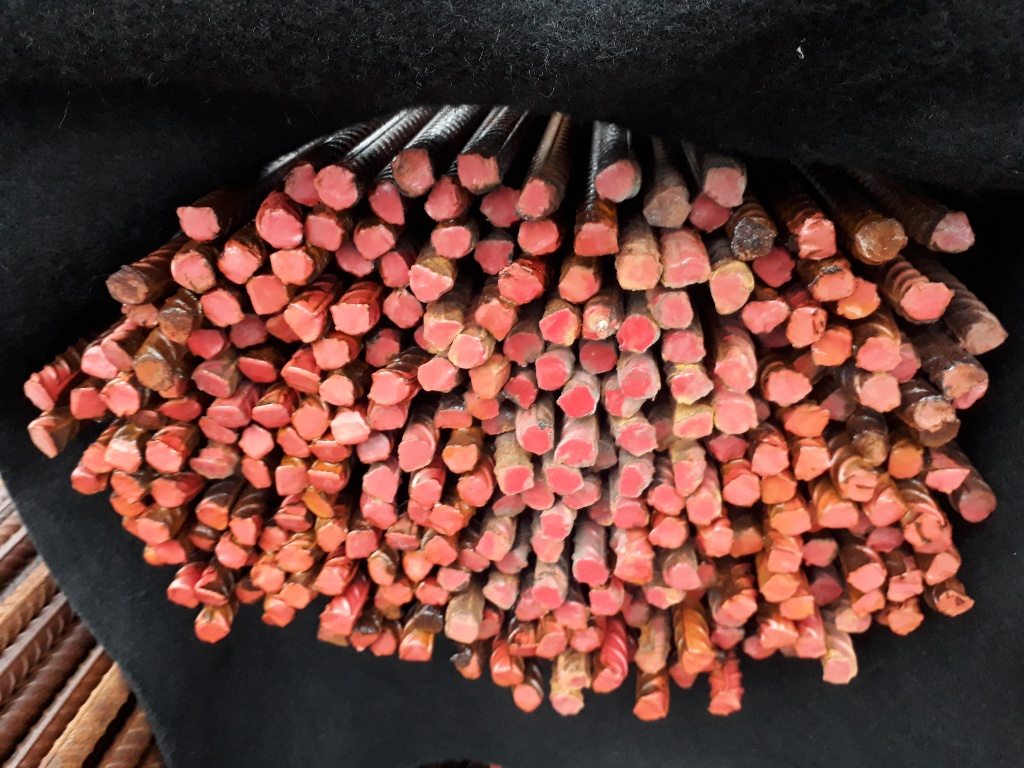dipstick: (902, 396, 963, 448), (853, 218, 908, 263), (159, 287, 202, 343), (389, 147, 437, 197), (938, 362, 989, 409), (899, 281, 956, 322), (837, 274, 882, 323), (870, 343, 923, 384), (711, 267, 755, 316), (662, 247, 713, 289), (422, 175, 465, 224), (854, 371, 903, 414), (711, 392, 761, 434), (643, 187, 690, 231), (730, 217, 775, 262), (314, 165, 359, 210), (596, 160, 641, 204), (478, 185, 522, 230), (794, 218, 840, 261), (806, 265, 858, 303), (497, 263, 545, 304), (255, 210, 303, 250), (474, 297, 517, 341), (930, 212, 975, 254), (601, 377, 647, 418), (285, 162, 325, 209), (764, 368, 813, 406), (704, 165, 747, 208), (753, 245, 796, 288), (218, 240, 261, 283), (457, 153, 501, 195), (740, 299, 791, 335), (855, 336, 902, 375), (367, 182, 409, 225), (690, 192, 734, 233), (786, 307, 830, 348), (171, 251, 215, 292), (408, 264, 453, 304), (246, 275, 292, 314), (648, 292, 695, 330), (811, 327, 853, 369), (515, 177, 555, 221), (105, 265, 150, 304), (175, 205, 221, 243), (867, 487, 908, 528), (660, 330, 708, 365), (616, 316, 661, 353), (616, 255, 662, 291), (473, 239, 519, 275), (282, 303, 323, 343), (381, 289, 423, 328), (573, 222, 621, 256), (190, 448, 238, 482), (673, 447, 706, 496), (583, 301, 623, 341), (558, 267, 601, 304), (536, 309, 579, 346), (964, 320, 1007, 357), (903, 511, 947, 547), (517, 220, 562, 255), (269, 250, 314, 285), (131, 357, 177, 391), (887, 439, 925, 480), (722, 472, 764, 509), (353, 224, 397, 259), (925, 462, 969, 497), (304, 214, 344, 252), (100, 378, 140, 416), (667, 372, 716, 403), (784, 405, 830, 438), (619, 362, 660, 399), (201, 288, 242, 325), (750, 442, 792, 478), (713, 357, 756, 392), (332, 406, 370, 445), (670, 408, 716, 440), (334, 243, 377, 277), (645, 482, 688, 516), (368, 370, 411, 404), (792, 445, 831, 482), (852, 428, 889, 467), (579, 338, 618, 375), (649, 516, 691, 550), (846, 560, 888, 594), (69, 386, 111, 420), (713, 595, 759, 626), (430, 226, 474, 258), (960, 487, 997, 525), (839, 468, 878, 504), (587, 582, 628, 616), (331, 302, 372, 336), (375, 251, 412, 288), (361, 463, 397, 501), (365, 329, 401, 367), (106, 436, 142, 474), (416, 357, 455, 392), (694, 525, 733, 560), (704, 434, 751, 463), (618, 423, 658, 457), (360, 497, 400, 531), (555, 436, 597, 468), (308, 459, 350, 491), (687, 489, 723, 526), (533, 355, 570, 391), (450, 333, 487, 369), (80, 344, 118, 379), (145, 439, 183, 474), (501, 375, 540, 409), (121, 518, 172, 544), (503, 332, 543, 365), (647, 405, 674, 453), (557, 386, 596, 419), (189, 369, 233, 398), (311, 338, 352, 369), (423, 318, 465, 348), (468, 364, 504, 399), (249, 559, 285, 594), (238, 423, 274, 458), (397, 438, 435, 471), (318, 375, 356, 408), (475, 530, 514, 562), (455, 475, 494, 507), (367, 399, 406, 431), (194, 613, 233, 645), (867, 526, 910, 555), (643, 582, 686, 611), (769, 509, 815, 536), (158, 397, 204, 424), (932, 590, 976, 618), (570, 558, 611, 588), (888, 570, 923, 605), (925, 552, 961, 586), (397, 630, 433, 664), (292, 406, 328, 440), (518, 422, 555, 455), (214, 532, 247, 569), (759, 574, 801, 603), (462, 390, 501, 421), (588, 487, 618, 527), (529, 532, 564, 566), (611, 499, 652, 528), (496, 464, 537, 493), (442, 444, 483, 473), (197, 415, 238, 444), (819, 388, 855, 421), (428, 502, 464, 535), (27, 424, 60, 460), (275, 427, 311, 460), (99, 337, 135, 370), (365, 551, 397, 588), (186, 329, 223, 361), (230, 317, 268, 348), (885, 609, 927, 637), (765, 546, 804, 576), (545, 465, 584, 495), (264, 313, 303, 343), (817, 501, 860, 528), (614, 556, 654, 585), (809, 572, 843, 606), (450, 646, 484, 680), (262, 596, 297, 629), (355, 431, 391, 463), (681, 647, 722, 675), (236, 357, 277, 385), (633, 692, 670, 723), (150, 478, 187, 509), (758, 474, 797, 503), (706, 687, 745, 716), (281, 365, 320, 394), (616, 464, 648, 499), (423, 536, 458, 568), (382, 528, 422, 556), (519, 480, 555, 511), (275, 465, 311, 496), (193, 501, 230, 531), (665, 562, 703, 591), (71, 465, 109, 494), (510, 681, 543, 714), (303, 486, 336, 519), (730, 526, 764, 558), (514, 589, 549, 620), (778, 595, 818, 622), (553, 599, 589, 629), (561, 481, 601, 508), (443, 613, 479, 643), (309, 437, 352, 462), (110, 472, 147, 501), (760, 623, 801, 649), (143, 541, 187, 565), (240, 457, 273, 489), (372, 587, 403, 621), (804, 538, 839, 568), (344, 528, 379, 558), (454, 545, 490, 574), (534, 630, 574, 656), (119, 302, 159, 328), (277, 546, 314, 574), (633, 647, 671, 674), (481, 582, 519, 609), (227, 514, 259, 546), (538, 511, 572, 541), (835, 608, 874, 634), (549, 689, 586, 716), (436, 564, 473, 591), (316, 523, 347, 555), (23, 381, 56, 411), (80, 443, 113, 473), (587, 438, 616, 472), (314, 568, 348, 597), (252, 403, 291, 428), (475, 608, 502, 644), (206, 406, 250, 428), (507, 628, 538, 659), (433, 406, 471, 431), (741, 634, 776, 661), (408, 480, 443, 507), (821, 658, 857, 684), (403, 550, 433, 581), (667, 660, 699, 689), (850, 590, 887, 615), (792, 634, 827, 660), (489, 662, 524, 688), (417, 581, 452, 607), (847, 511, 878, 540), (366, 629, 397, 658), (236, 577, 267, 606), (318, 611, 355, 635), (711, 625, 746, 650), (493, 551, 529, 575), (531, 584, 564, 610), (257, 526, 290, 552), (492, 493, 526, 518), (560, 662, 590, 690), (405, 499, 435, 527), (187, 524, 219, 550), (279, 583, 312, 608), (273, 513, 314, 533), (109, 496, 148, 517), (592, 666, 621, 694), (481, 411, 514, 435), (624, 599, 651, 628), (196, 584, 227, 609), (571, 628, 603, 652), (313, 630, 353, 649), (348, 630, 381, 653), (380, 582, 413, 605), (164, 586, 198, 608)
